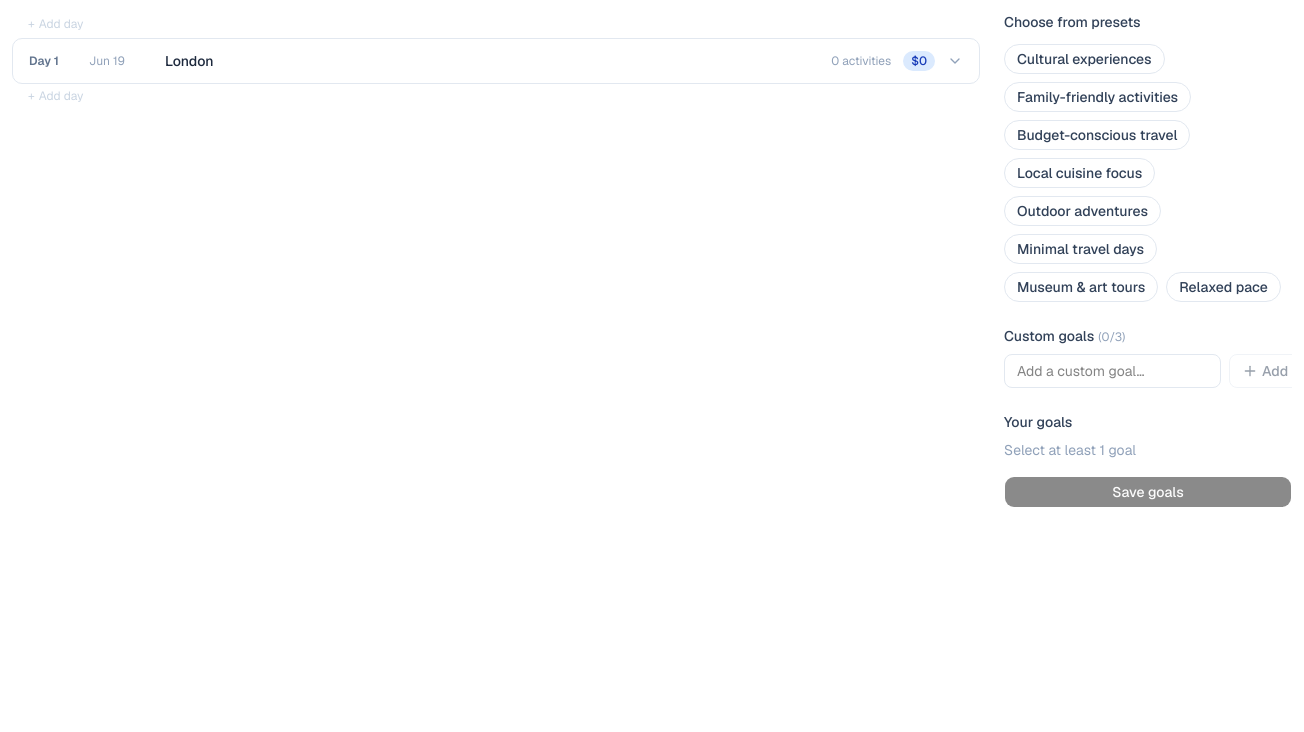
Test: clicking Add Day opens the inline form
The image size is (1304, 732).
Expected: the text "London" is shown, x1=165 y1=52 x2=214 y2=70
Click the 1st button "+ Add day" at x=61, y=24, box x1=12 y1=12 x2=980 y2=36
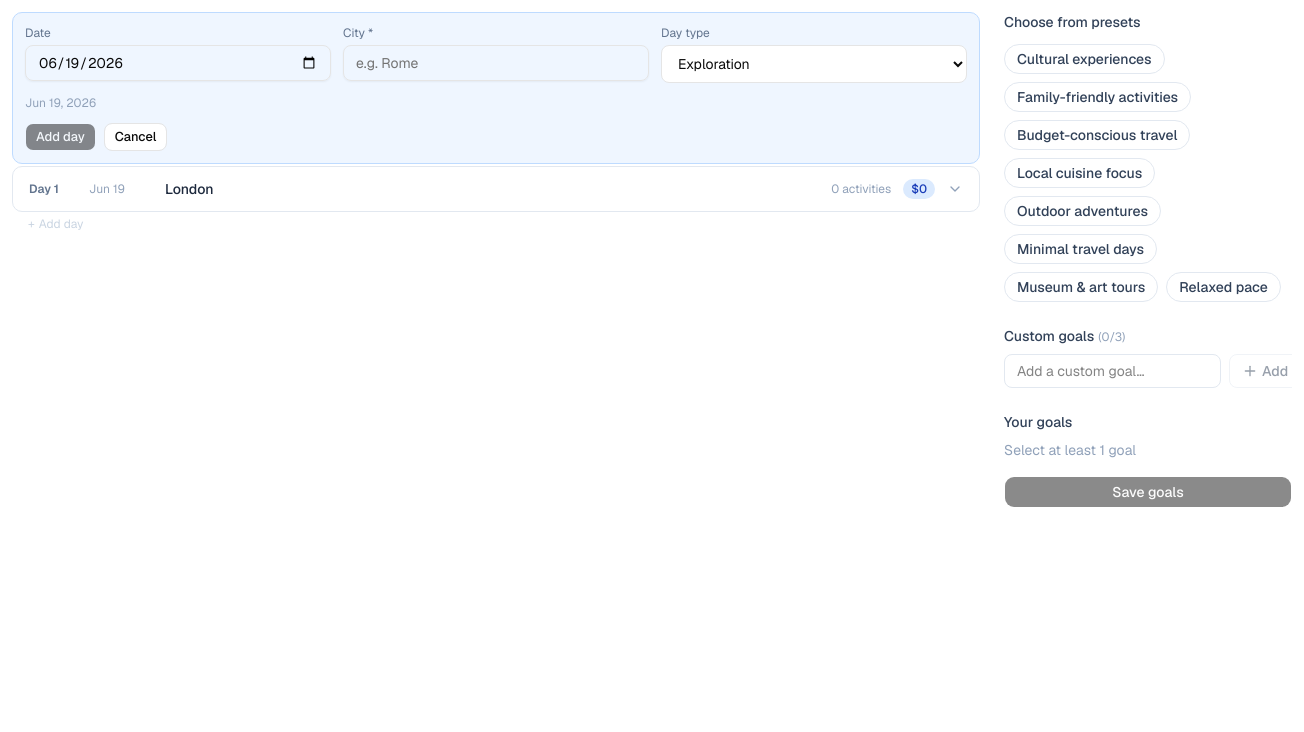
Now the field labelled "City *" is shown, box x1=343 y1=45 x2=649 y2=81
